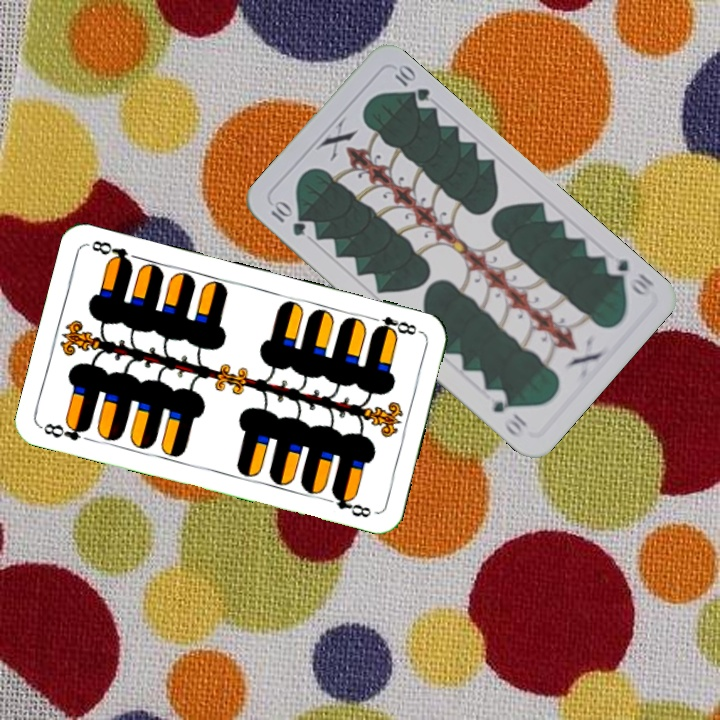E8: (38, 417, 93, 444), (366, 312, 419, 339)
G10: (601, 254, 657, 299), (266, 197, 309, 239)
